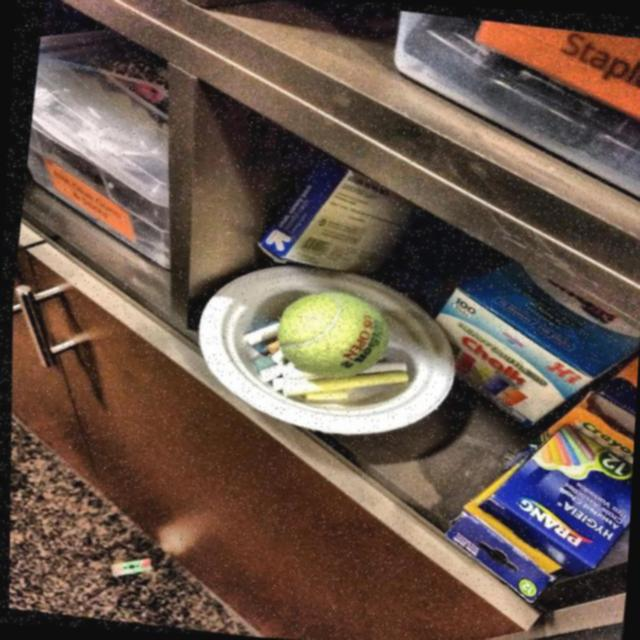tennis-ball: (269, 285, 407, 395)
